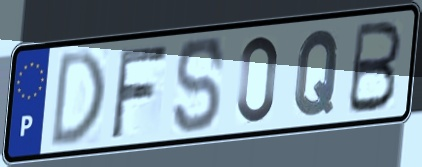0: (235, 33, 280, 126)
B: (344, 19, 405, 117)
D: (47, 46, 109, 152)
F: (108, 41, 171, 142)
Q: (291, 27, 343, 120)
S: (172, 34, 228, 137)
